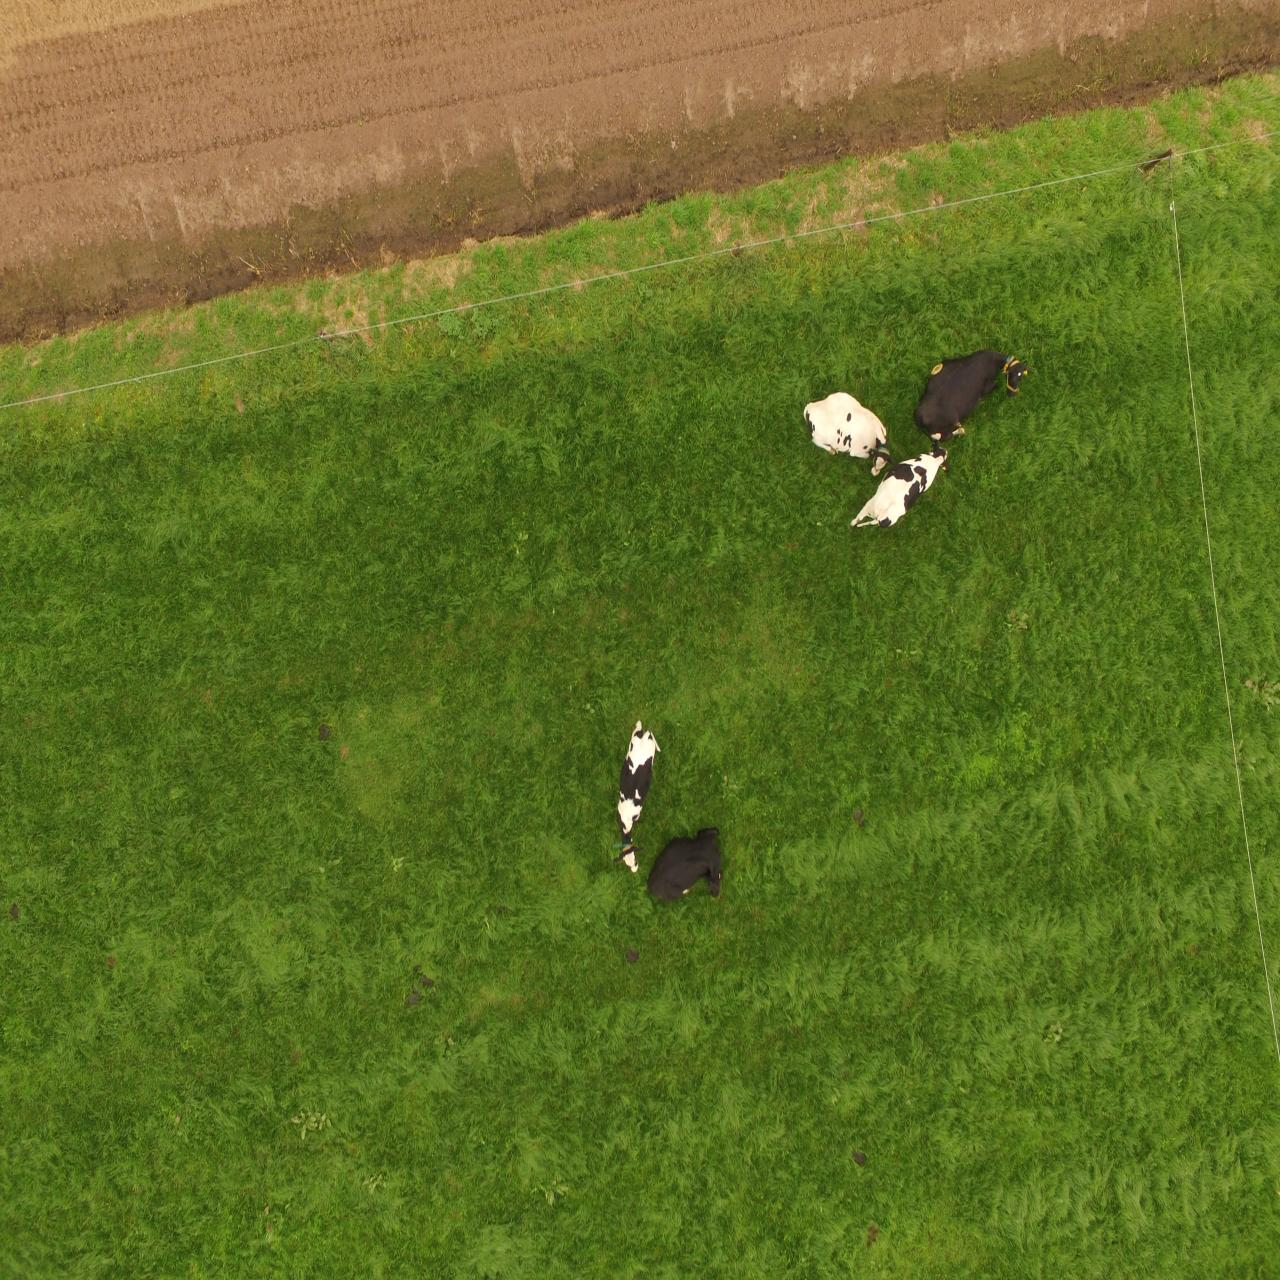cow: (845, 445, 958, 543), (915, 350, 1037, 440), (612, 719, 661, 886), (651, 824, 727, 911), (795, 392, 890, 456)
